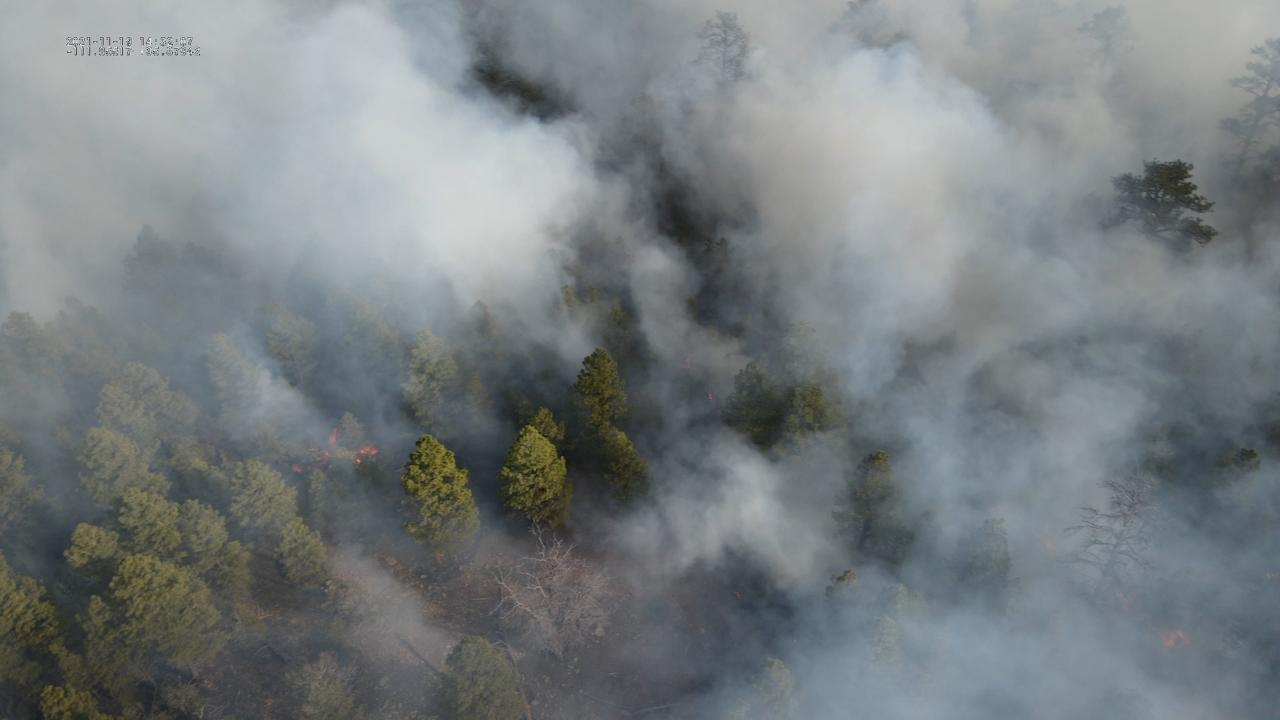fire: (289, 423, 379, 477), (1159, 626, 1193, 652), (706, 391, 714, 401)
smoke: (0, 0, 1280, 720)
